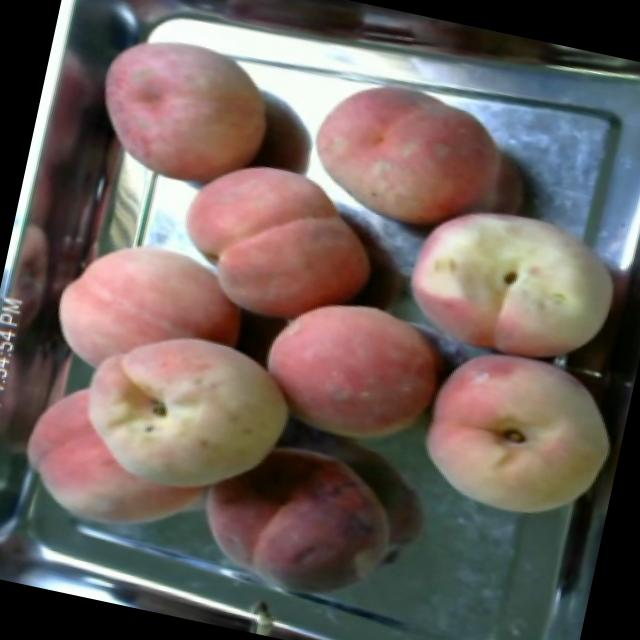Fruit: (174, 412, 430, 637), (288, 53, 559, 264), (56, 300, 314, 520), (156, 134, 402, 350), (393, 333, 632, 543), (384, 177, 637, 375), (242, 268, 472, 472), (32, 207, 266, 406), (72, 8, 294, 207)
